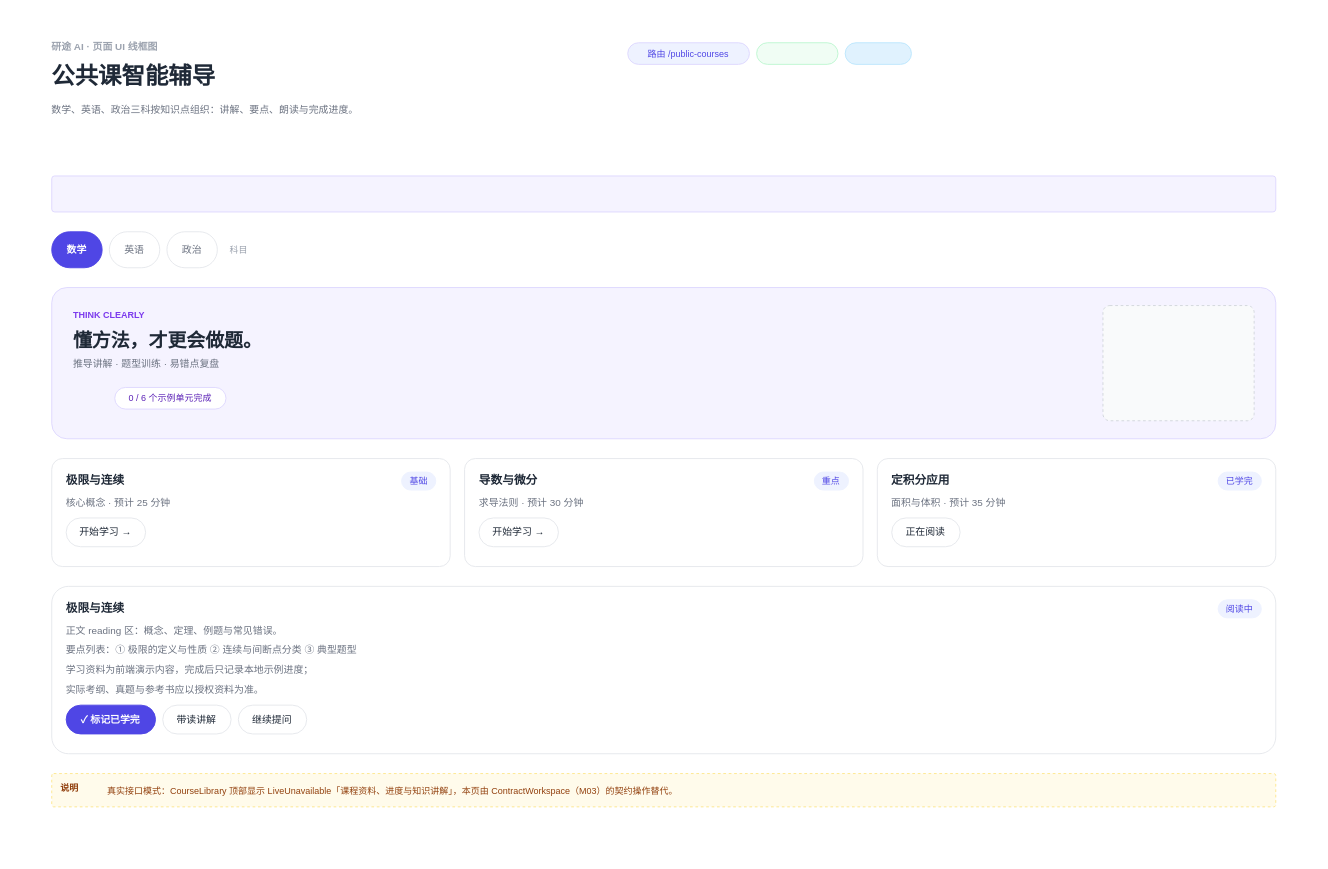
Image size: 1328x869. Some labels were removed from this diagram. The shapes that lost their labels are listed below. From the top down, each one's centre as x and y in pixels, then its label:
point (797, 53): 角色 STUDENT
point (877, 53): 模式 demo
point (663, 193): ⓘ 当前为前端演示。示例院校、学习资料与 AI 回复均不代表真实业务结果；本地学习操作仅保存在本浏览器。
point (1178, 363): 科目 插图
